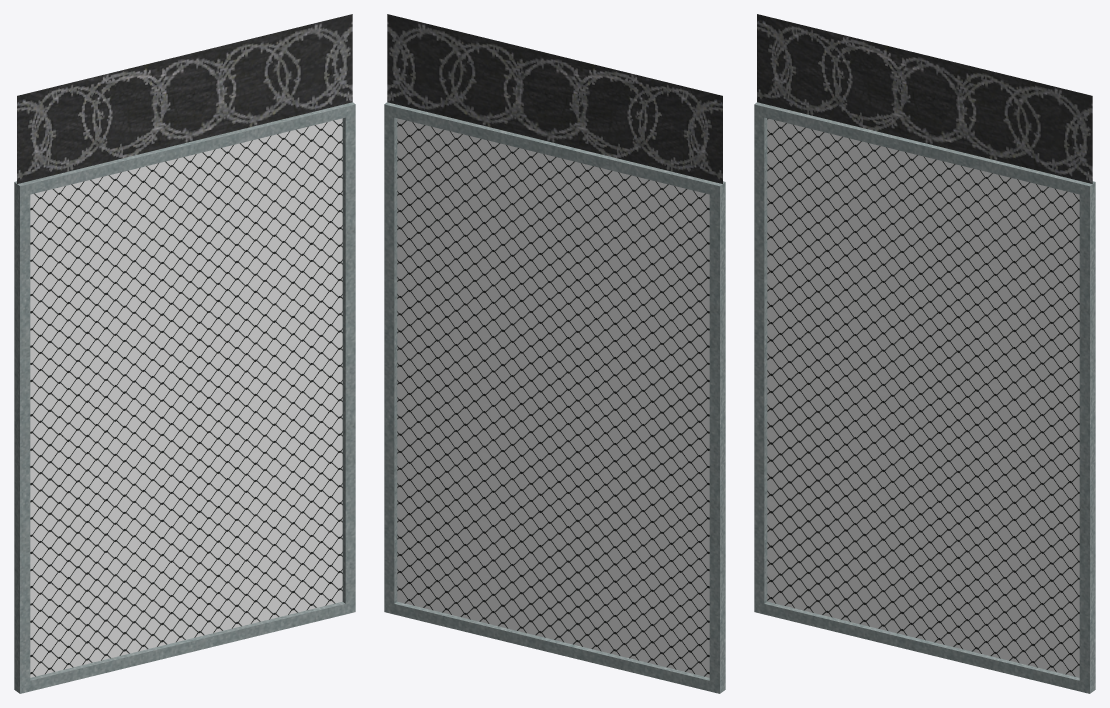
The model's file is fence_security_chainlink_bwr.fbx.
3 renders of one model, left to right at view 1: azimuth 30°, elevation 25°; view 2: azimuth 150°, elevation 25°; view 3: azimuth 330°, elevation 25°, orthographic.
Visible parts, largest first — view 1: fence_security_chainlink_bwr; view 2: fence_security_chainlink_bwr; view 3: fence_security_chainlink_bwr.
Part boxes in pixels (bbox=[...]): fence_security_chainlink_bwr: bbox=[14, 14, 355, 693]; fence_security_chainlink_bwr: bbox=[384, 14, 725, 693]; fence_security_chainlink_bwr: bbox=[754, 14, 1095, 693].
Size of the model in its own units: 1.8 by 3.05 by 0.055.
